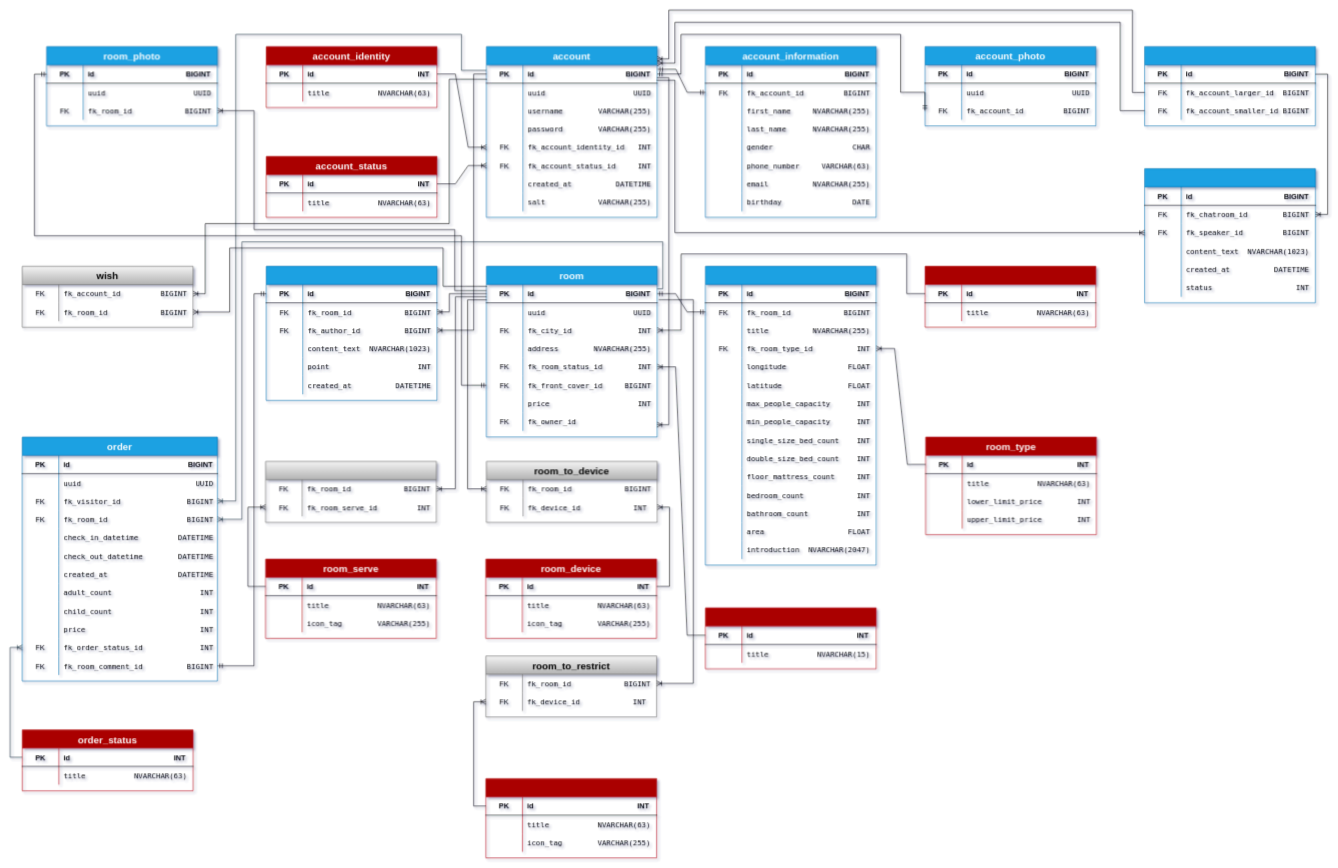
Some shapes in this 1338 by 868 pixel diagram are drawn without their labels. The box of each missing label's shape, as (x1, y1, x2, y2) in pixels:
chat_detail: (1144, 168, 1315, 303)
chatroom: (1144, 46, 1315, 126)
city: (924, 266, 1096, 327)
room_comment: (266, 266, 437, 400)
room_information: (705, 266, 876, 565)
room_restrict: (485, 778, 657, 858)
room_status: (705, 607, 876, 669)
room_to_serve: (265, 461, 436, 522)
